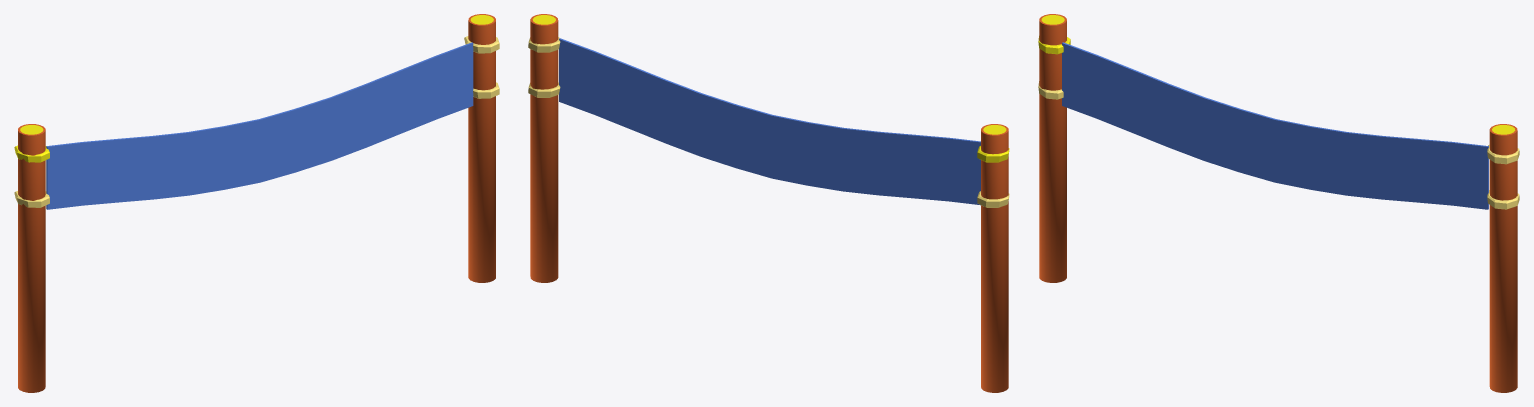
File: GoalSign.fbx
3 views of the same model, side by side, from view 1: azimuth 30°, elevation 25°; view 2: azimuth 150°, elevation 25°; view 3: azimuth 330°, elevation 25° (orthographic).
Visible parts, largest first — view 1: GoalSign; view 2: GoalSign; view 3: GoalSign.
Boxes of the visible parts, x1,y1,x2,y2 form: GoalSign: [14, 14, 499, 392]; GoalSign: [528, 14, 1009, 392]; GoalSign: [1038, 14, 1519, 392].
Size of the model in its own units: 19.16 by 1.22 by 9.82.
